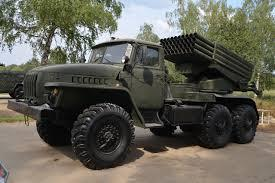MIL_SAM_TEL: (15, 28, 259, 170)
